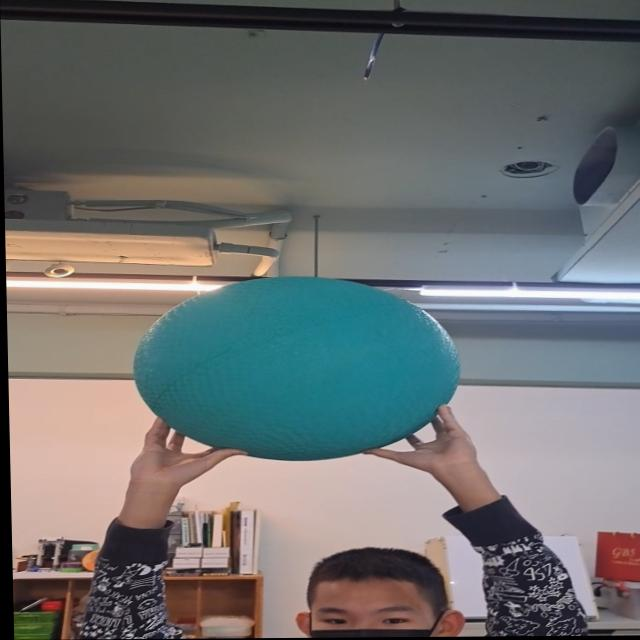ALGAE: (130, 275, 463, 464)
